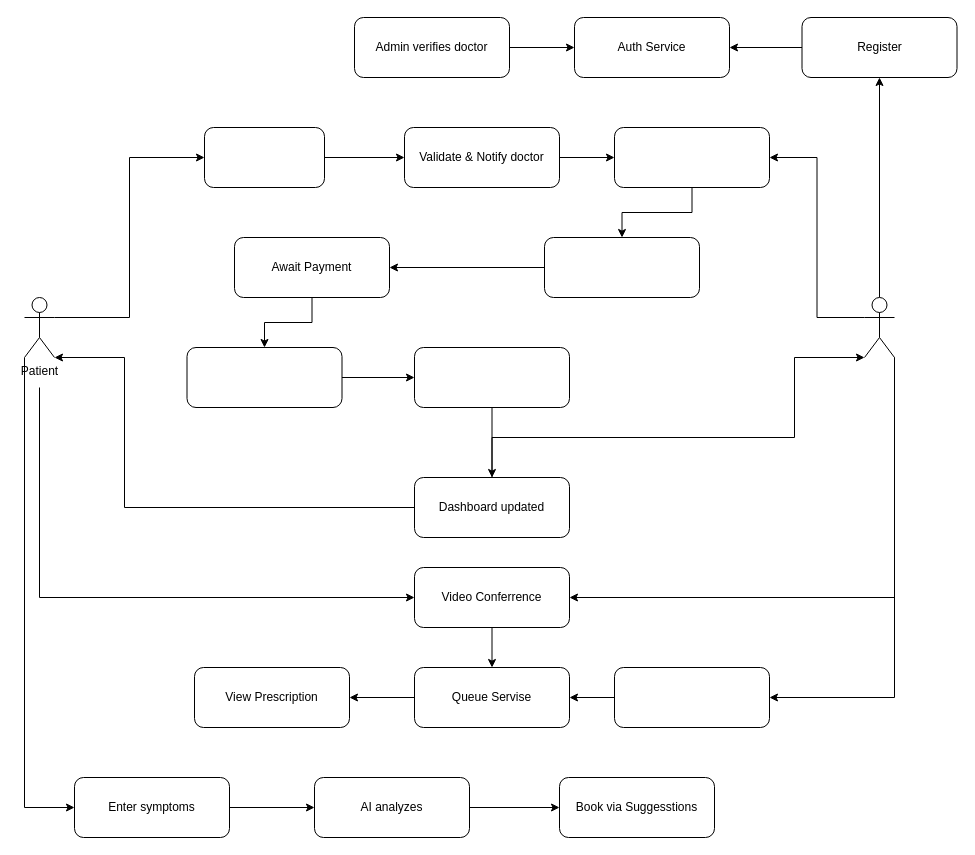
Image size: 975x855. Some labels were removed from this diagram. Here are the shapes that lost their labels. From the top down, the centre of each, then its label:
point 264,157: Search & book slot
point 692,157: Accept/Reject
point 622,267: Notify patient to pay
point 879,327: Doctor
point 264,377: Complete Payment
point 492,377: Payment Service
point 692,697: Upload Prescription
